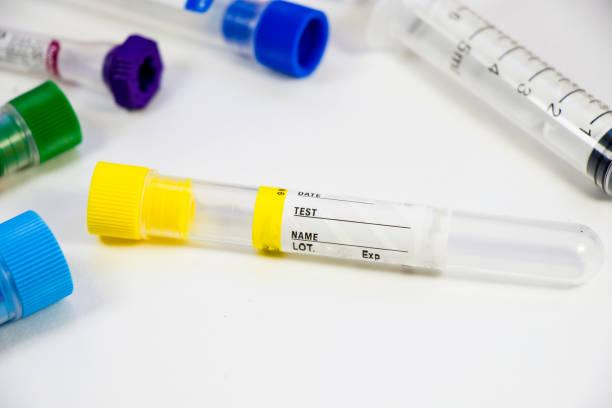Test tube: (82, 169, 601, 296)
